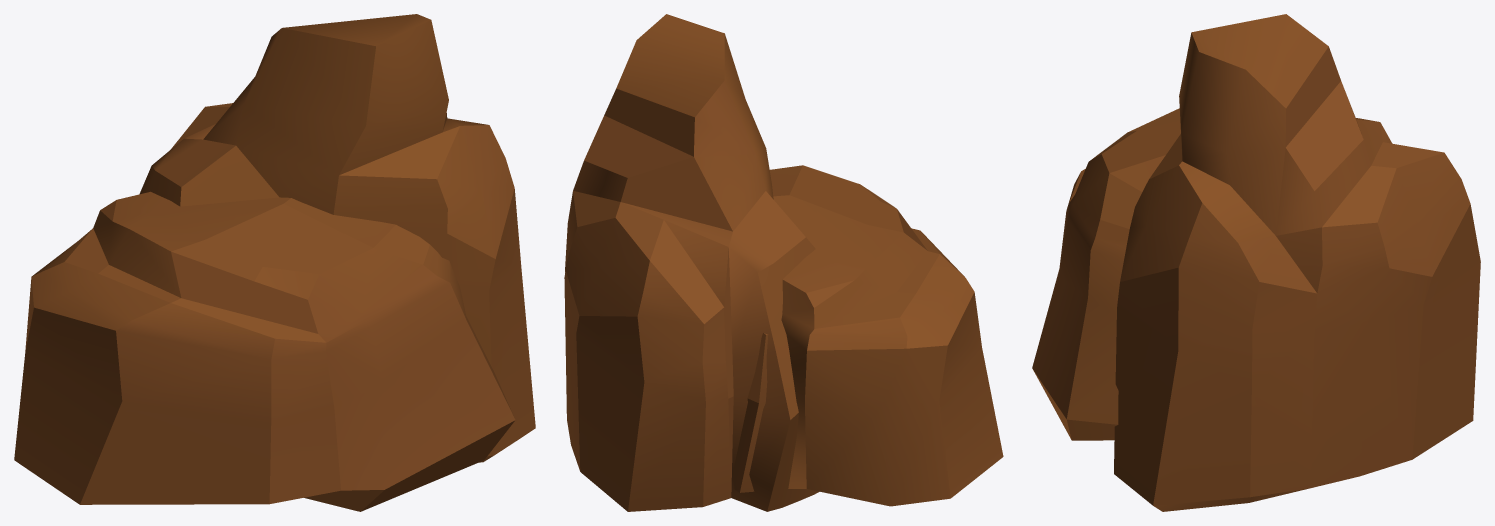
File: rock2_lev2.glb
3 views of the same model, side by side, from view 1: azimuth 30°, elevation 25°; view 2: azimuth 150°, elevation 25°; view 3: azimuth 270°, elevation 25° (orthographic). The views are drawn at different scales.
Parts seen in each view (by area): view 1: Rock_Large_2.001; view 2: Rock_Large_2.001; view 3: Rock_Large_2.001.
Boxes of the visible parts, x1,y1,x2,y2 form: Rock_Large_2.001: (14, 14, 535, 511); Rock_Large_2.001: (564, 14, 1003, 511); Rock_Large_2.001: (1032, 14, 1480, 511).
Bounding box in the file's own units: 30.71 × 28.26 × 26.78.
Materials: 1 (1 with a texture image).
